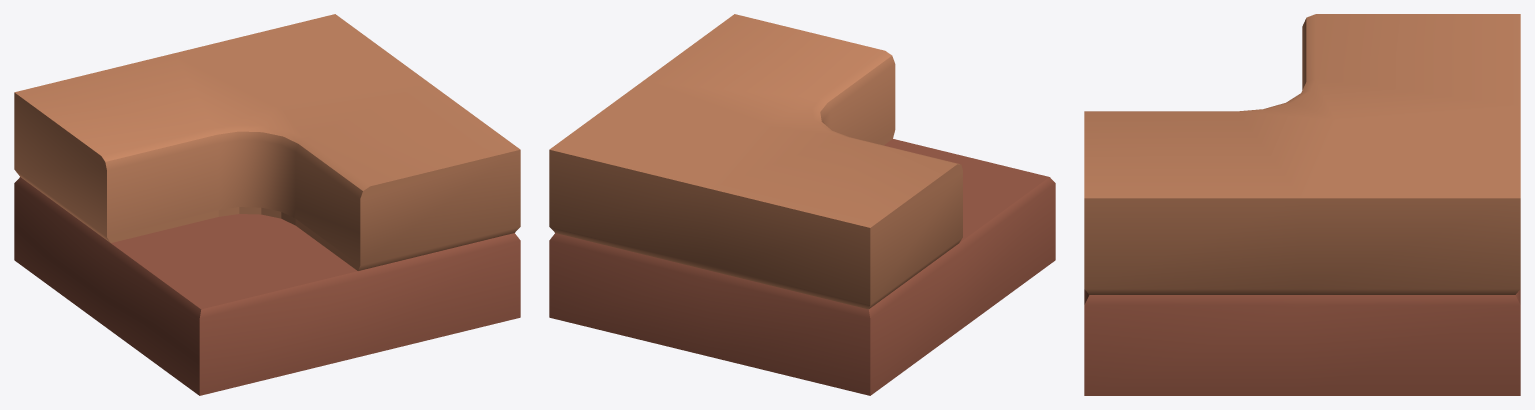
Rendered from kaykit-square-rock-waterinnercorner-empty.glb.
3 views of the same model, side by side, from view 1: azimuth 30°, elevation 25°; view 2: azimuth 150°, elevation 25°; view 3: azimuth 270°, elevation 25° (orthographic). The views are drawn at different scales.
Visible parts, largest first — view 1: square_rock_waterInnerCorner_empty; view 2: square_rock_waterInnerCorner_empty; view 3: square_rock_waterInnerCorner_empty.
Boxes of the visible parts, x1=… form: square_rock_waterInnerCorner_empty: x1=14, y1=14, x2=520, y2=395; square_rock_waterInnerCorner_empty: x1=549, y1=14, x2=1055, y2=395; square_rock_waterInnerCorner_empty: x1=1084, y1=14, x2=1520, y2=395.
Bounding box in the file's own units: 2 × 1 × 2.
